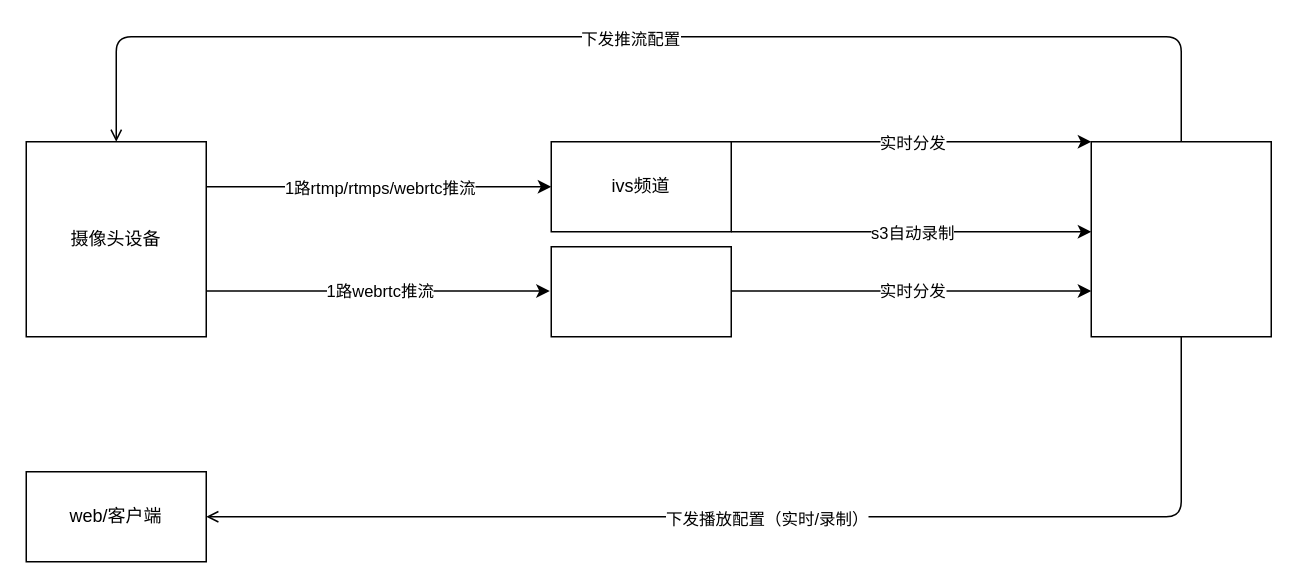
This 1298x588 diagram has some shape labels left out. Here are the shapes that lost their labels. From the top down, the box of each, then its label:
(1090, 140, 1271, 337): 服务端
(550, 245, 731, 337): kvs频道
